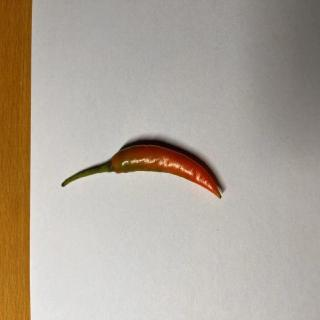Cabai Merah: (60, 143, 224, 201)
